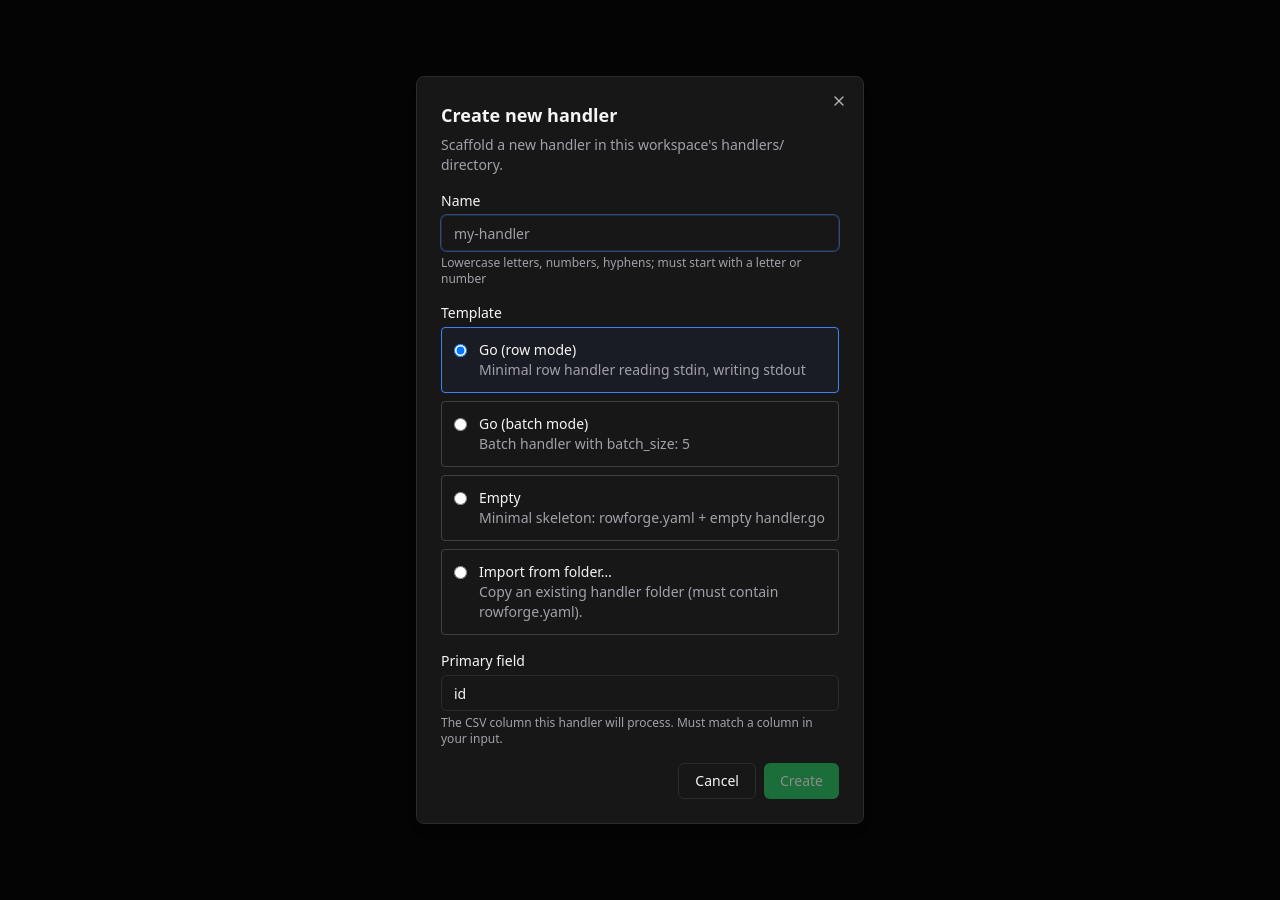
Test: ScaffoldDialog › shows inline error banner on InvalidHandlerName
The image size is (1280, 900).
Type "bad" into the field labelled "Name".
click(640, 233); type("bad")  # box [441,215,839,251]
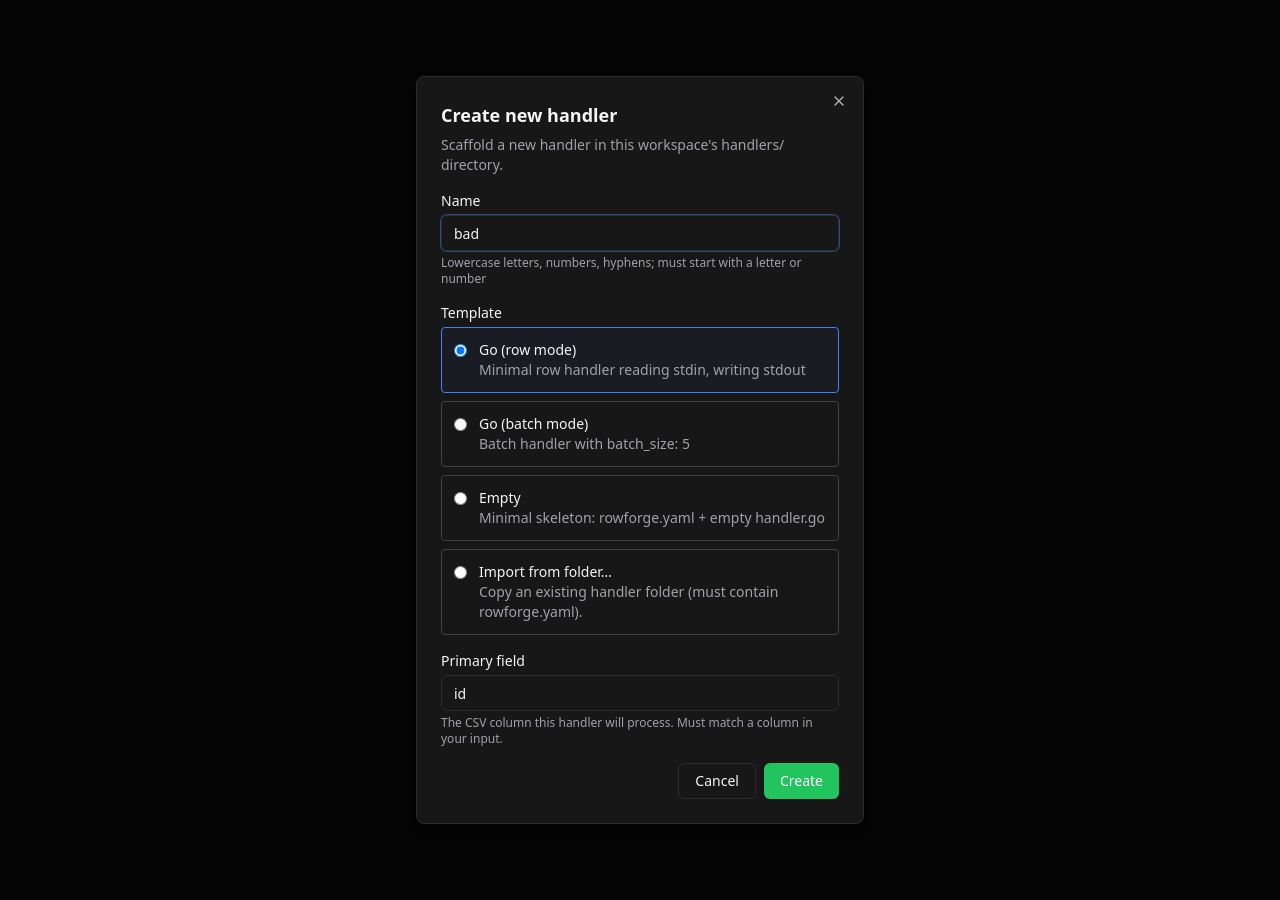
Click the button "Create".
click(801, 781)  # box [764,763,839,799]
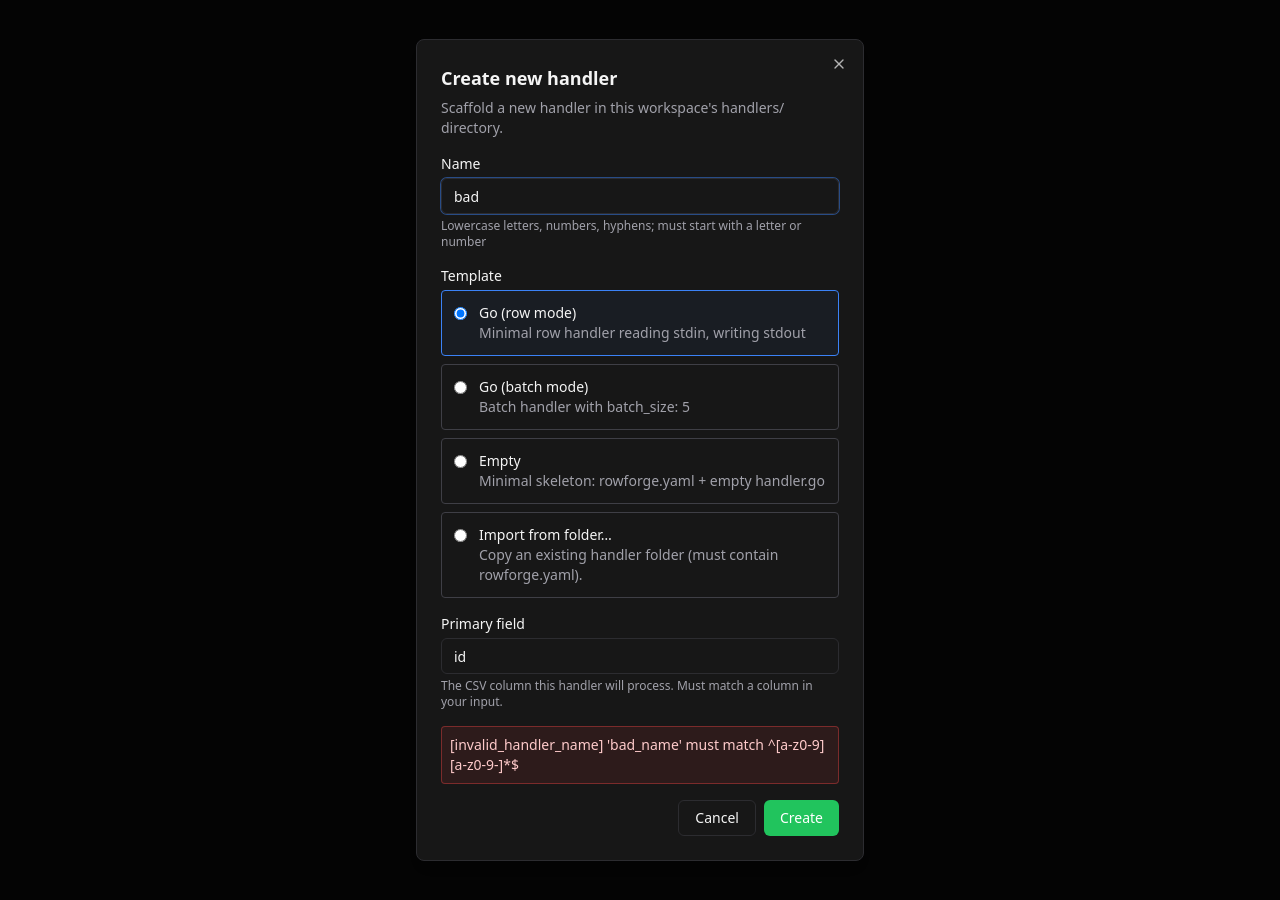
Now the text "[invalid_handler_name]" is shown, box [450,735,824,774]
